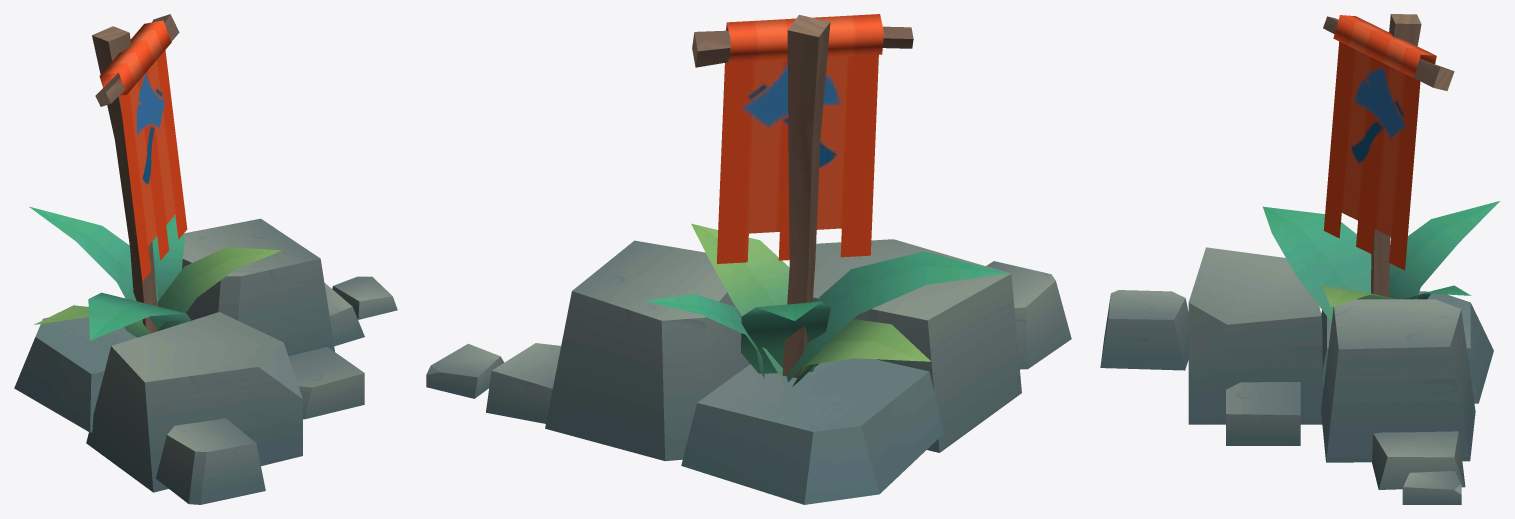
The model's file is WallCorner-001_40_15_6460.fbx.
3 views of the same model, side by side, from view 1: azimuth 30°, elevation 25°; view 2: azimuth 150°, elevation 25°; view 3: azimuth 270°, elevation 25° (orthographic). The views are drawn at different scales.
Visible parts, largest first — view 1: Corner1, Flag4 (1), Wood1.002 (1), ClothTop5 (1), Wood1.002 (2); view 2: Corner1, Flag4 (1), Wood1.002 (1), ClothTop5 (1), Wood1.002 (2); view 3: Corner1, Flag4 (1), ClothTop5 (1), Wood1.002 (1), Wood1.002 (2).
Part boxes in pixels (x1,y1,x2,y2): Corner1: (14, 206, 397, 504); Flag4 (1): (118, 50, 187, 281); Wood1.002 (1): (92, 26, 157, 333); ClothTop5 (1): (99, 20, 171, 95); Wood1.002 (2): (95, 14, 179, 106); Corner1: (426, 223, 1071, 504); Flag4 (1): (716, 54, 878, 263); Wood1.002 (1): (782, 14, 830, 377); ClothTop5 (1): (726, 14, 883, 62); Wood1.002 (2): (692, 26, 913, 67); Corner1: (1100, 201, 1499, 504); Flag4 (1): (1323, 41, 1420, 270); ClothTop5 (1): (1333, 15, 1436, 78); Wood1.002 (1): (1371, 14, 1421, 297); Wood1.002 (2): (1323, 16, 1454, 90).
Size of the model in its own units: 3.81 by 3.53 by 3.49.
